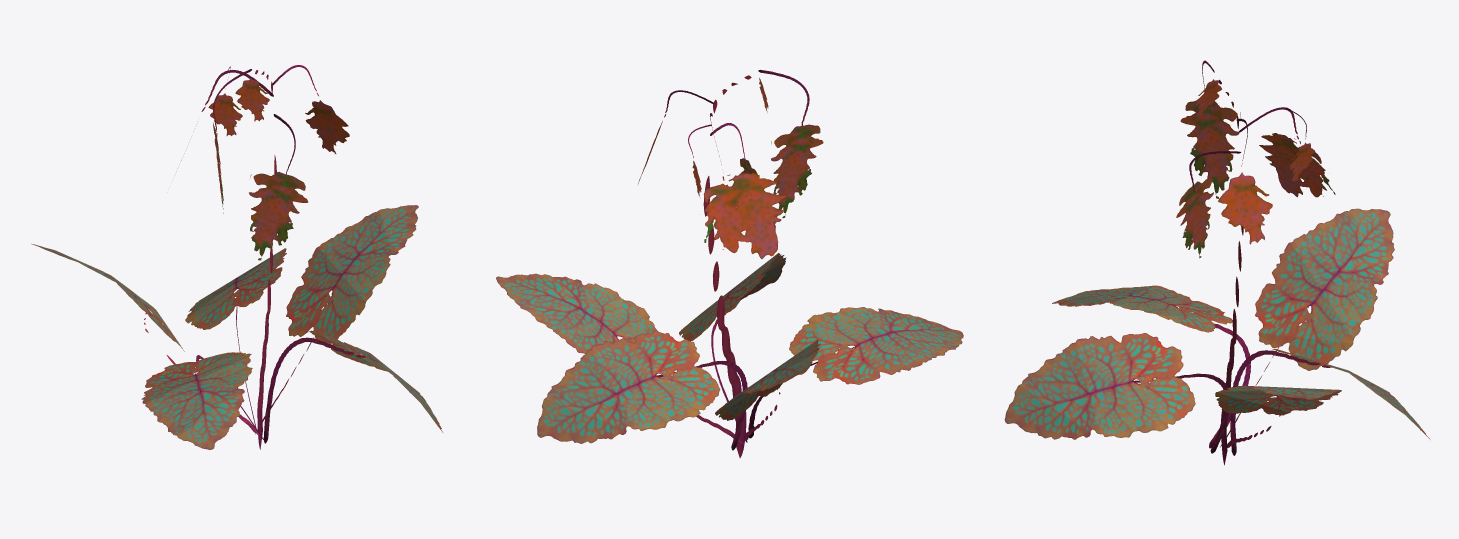
File: Spin Reef B4.fbx
The picture shows the model from 3 angles, left to right: view 1: azimuth 30°, elevation 25°; view 2: azimuth 150°, elevation 25°; view 3: azimuth 270°, elevation 25°; orthographic projection.
Visible parts, largest first — view 1: Spin Reef B4; view 2: Spin Reef B4; view 3: Spin Reef B4.
Part boxes in pixels (x1,y1,x2,y2): Spin Reef B4: (31, 65, 442, 449); Spin Reef B4: (496, 70, 963, 457); Spin Reef B4: (1004, 60, 1430, 465).
Size of the model in its own units: 159 by 208 by 167.
